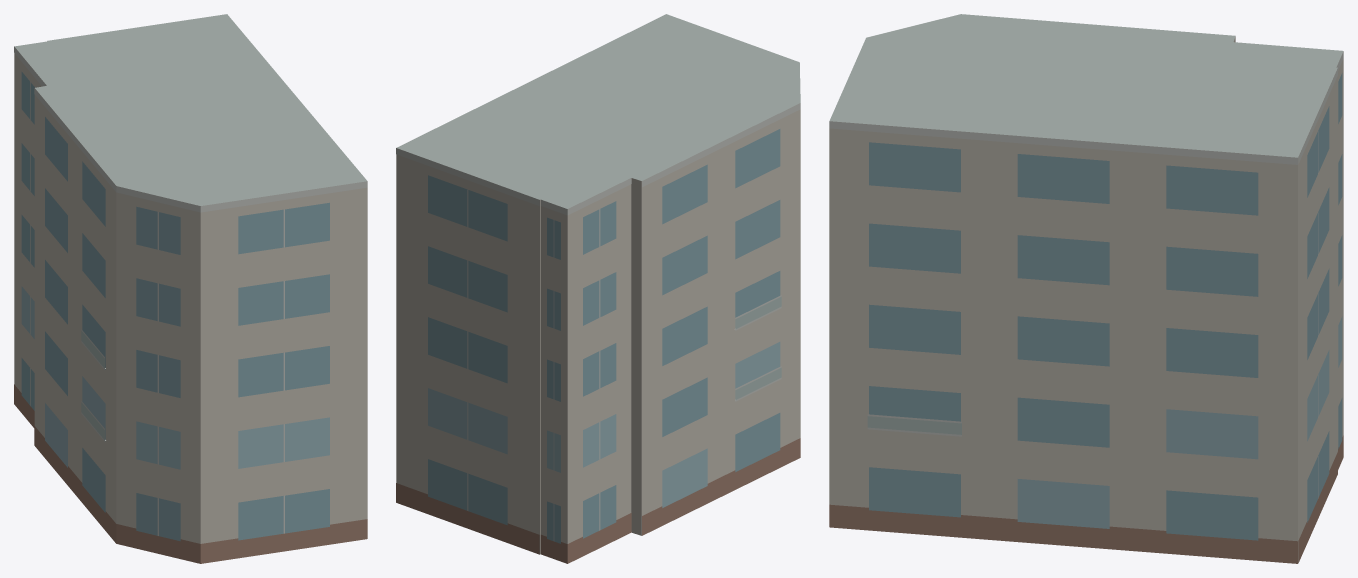
The model's file is survey-upis-32854338.glb.
3 renders of one model, left to right at view 1: azimuth 30°, elevation 25°; view 2: azimuth 150°, elevation 25°; view 3: azimuth 270°, elevation 25°, orthographic. The views are drawn at different scales.
Parts seen in each view (by area): view 1: survey-upis-32854338.tmp; view 2: survey-upis-32854338.tmp; view 3: survey-upis-32854338.tmp.
Part boxes in pixels (bbox=[...]): survey-upis-32854338.tmp: bbox=[14, 14, 367, 563]; survey-upis-32854338.tmp: bbox=[396, 14, 800, 563]; survey-upis-32854338.tmp: bbox=[829, 14, 1343, 563].
Bounding box in the file's own units: 10.33 × 13.6 × 15.62.
